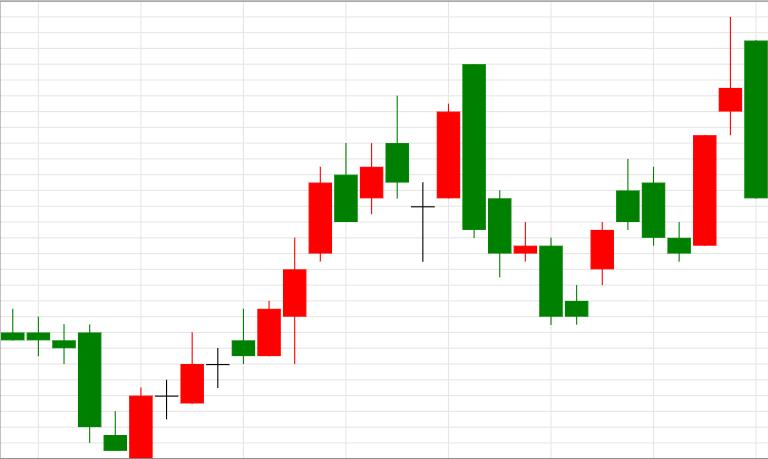bullish_engulfing_rise: (0, 308, 152, 459)
shooting_star_fall: (258, 95, 409, 364)
